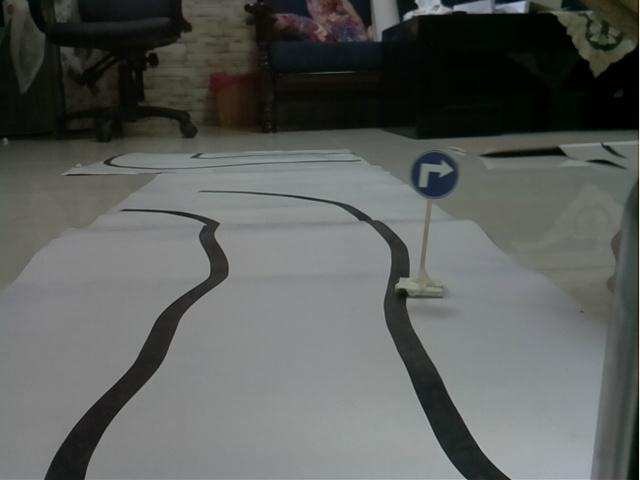turn: (409, 149, 465, 211)
